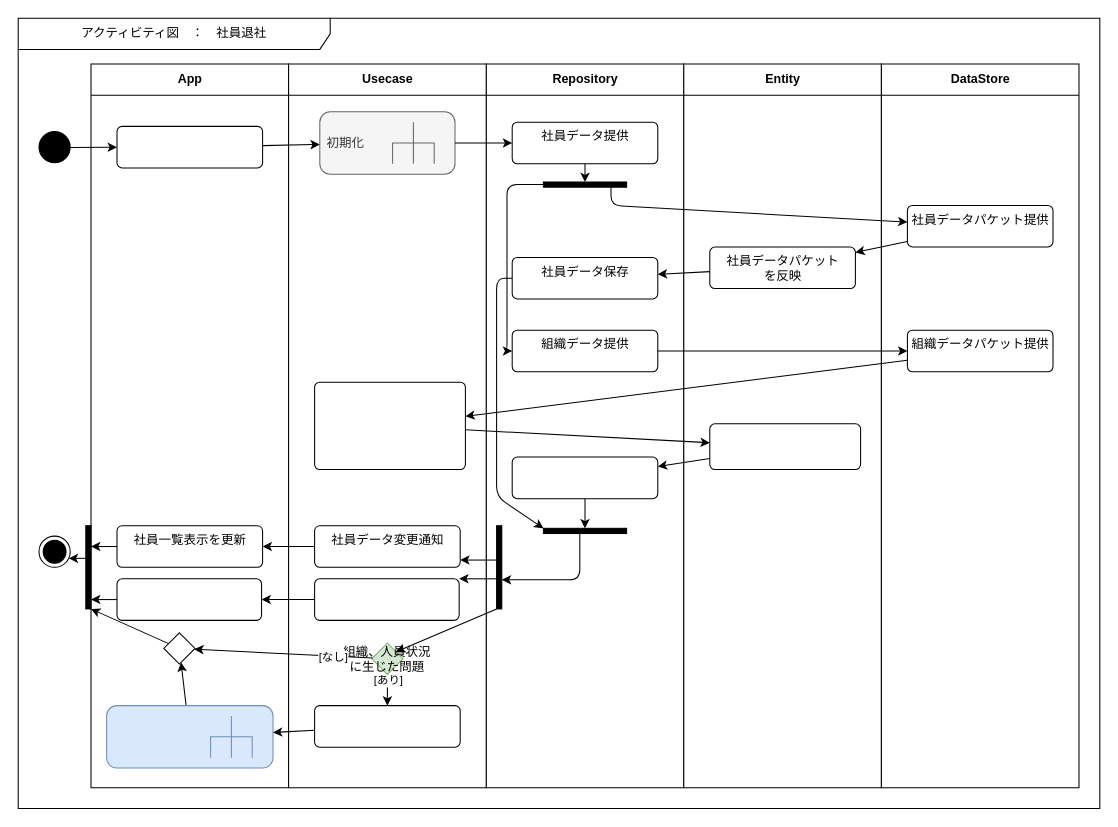
Some shapes in this 1118 by 827 pixel diagram are drawn without their labels. The centre of each missing label's shape, as x and y in pixels:
"データ取り込み" belongs at (x=189, y=146).
"所属社員を紐づける" belongs at (x=785, y=446).
"社員リストと 組織データを 渡して、所属社員を 紐づけてもらう" belongs at (x=389, y=425).
"組織データ保存" belongs at (x=584, y=477).
"組織データ変更通知" belongs at (x=386, y=599).
"組織・人員問題 の修正 アクティビティ" belongs at (x=189, y=736).
"組織・人員問題を 通知" belongs at (x=387, y=726).
"組織表示を更新" belongs at (x=189, y=599).
